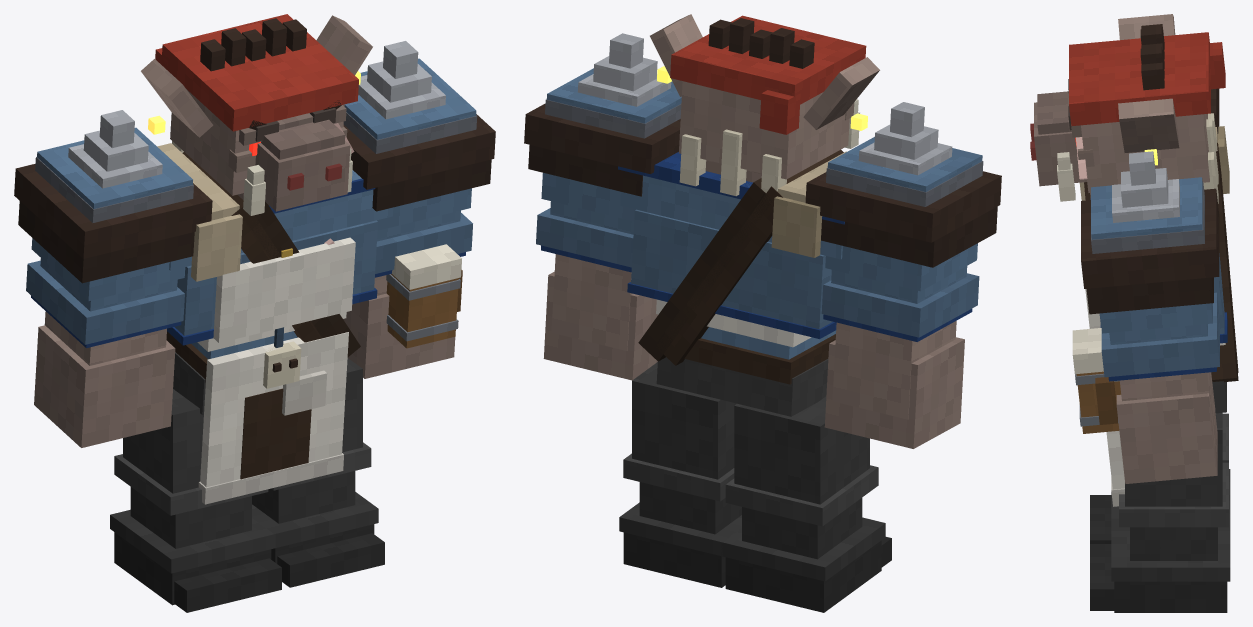
File: orc_aubergiste_v3.glb
The picture shows the model from 3 angles, left to right: view 1: azimuth 30°, elevation 25°; view 2: azimuth 150°, elevation 25°; view 3: azimuth 270°, elevation 25°; orthographic projection. The views are drawn at different scales.
Parts seen in each view (by area): view 1: Torso, ArmR, Head, ArmL, LegR, LegL, HandL; view 2: ArmR, Torso, ArmL, LegR, Head, LegL; view 3: ArmL, Head, LegL, Torso, HandL, LegR, ArmR.
Part boxes in pixels (box(x1,y1,x2,y2)): Torso: box(157, 141, 393, 504); ArmR: box(14, 110, 212, 447); Head: box(141, 14, 372, 215); ArmL: box(343, 41, 495, 378); LegR: box(110, 389, 281, 612); LegL: box(252, 358, 384, 587); HandL: box(386, 244, 462, 348); ArmR: box(805, 102, 1001, 448); Torso: box(618, 129, 846, 416); ArmL: box(524, 33, 681, 380); LegR: box(721, 396, 891, 612); Head: box(650, 14, 879, 182); LegL: box(619, 362, 741, 587); ArmL: box(1081, 151, 1219, 483); Head: box(1030, 14, 1225, 201); LegL: box(1090, 413, 1230, 612); Torso: box(1079, 113, 1238, 506); HandL: box(1072, 328, 1121, 433); LegR: box(1090, 413, 1230, 543); ArmR: box(1211, 88, 1219, 133).
Size of the model in its own units: 1.44 by 1.8 by 0.6473.
Materials: 45 (45 with a texture image).
